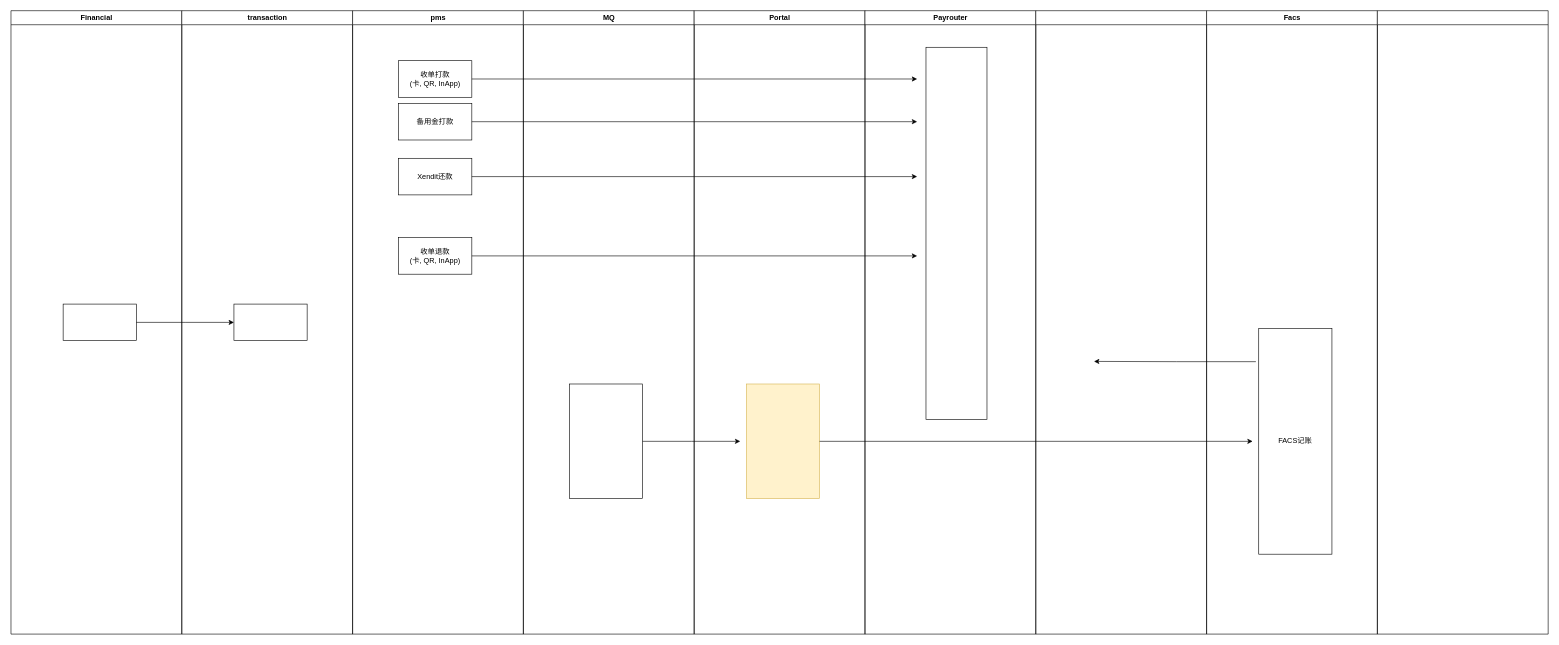
Image size: 1559x645. Some labels were removed from this diagram. Each missing label, with the centre of its shape:
Event: point 606,441
Lender System: point 1121,322
Paylater: point 1462,322
数据整合 account_uuid+ transaction_id+ status: point 783,441
获取路由: point 956,233
返现/推荐: point 99,322
